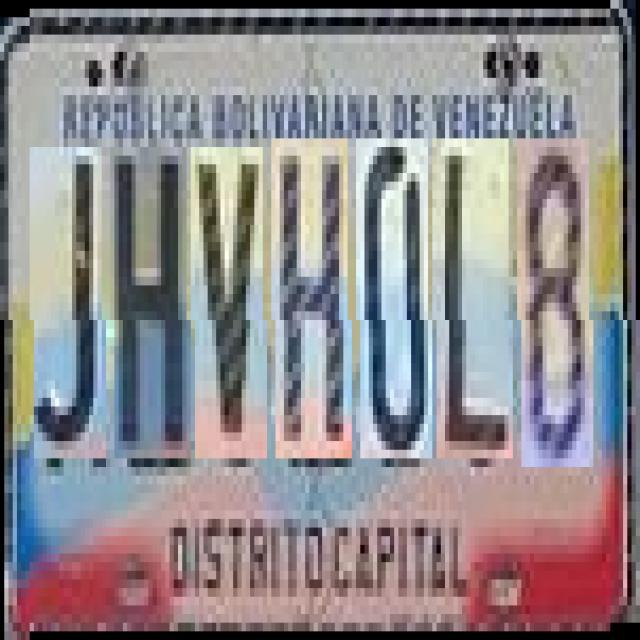0: (360, 138, 432, 458)
8: (522, 138, 594, 467)
H: (275, 138, 352, 458), (114, 146, 191, 458)
J: (34, 146, 106, 458)
L: (436, 138, 513, 458)
V: (195, 146, 267, 458)
